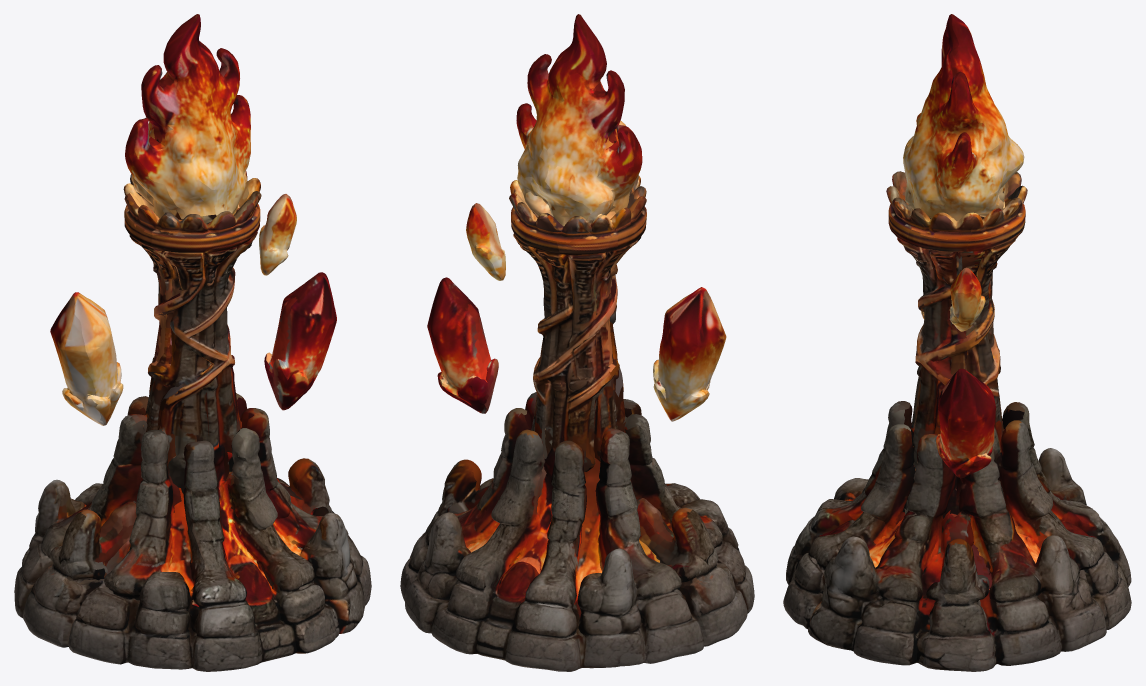
The picture shows the model from 3 angles, left to right: view 1: azimuth 30°, elevation 25°; view 2: azimuth 150°, elevation 25°; view 3: azimuth 270°, elevation 25°; orthographic projection.
Visible parts, largest first — view 1: textured_mesh; view 2: textured_mesh; view 3: textured_mesh.
Part boxes in pixels (x1,y1,x2,y2): textured_mesh: (14,14,371,671); textured_mesh: (400,14,754,671); textured_mesh: (783,14,1131,671).
Size of the model in its own units: 1.13 by 1.99 by 1.07.
Materials: 1 (1 with a texture image).
